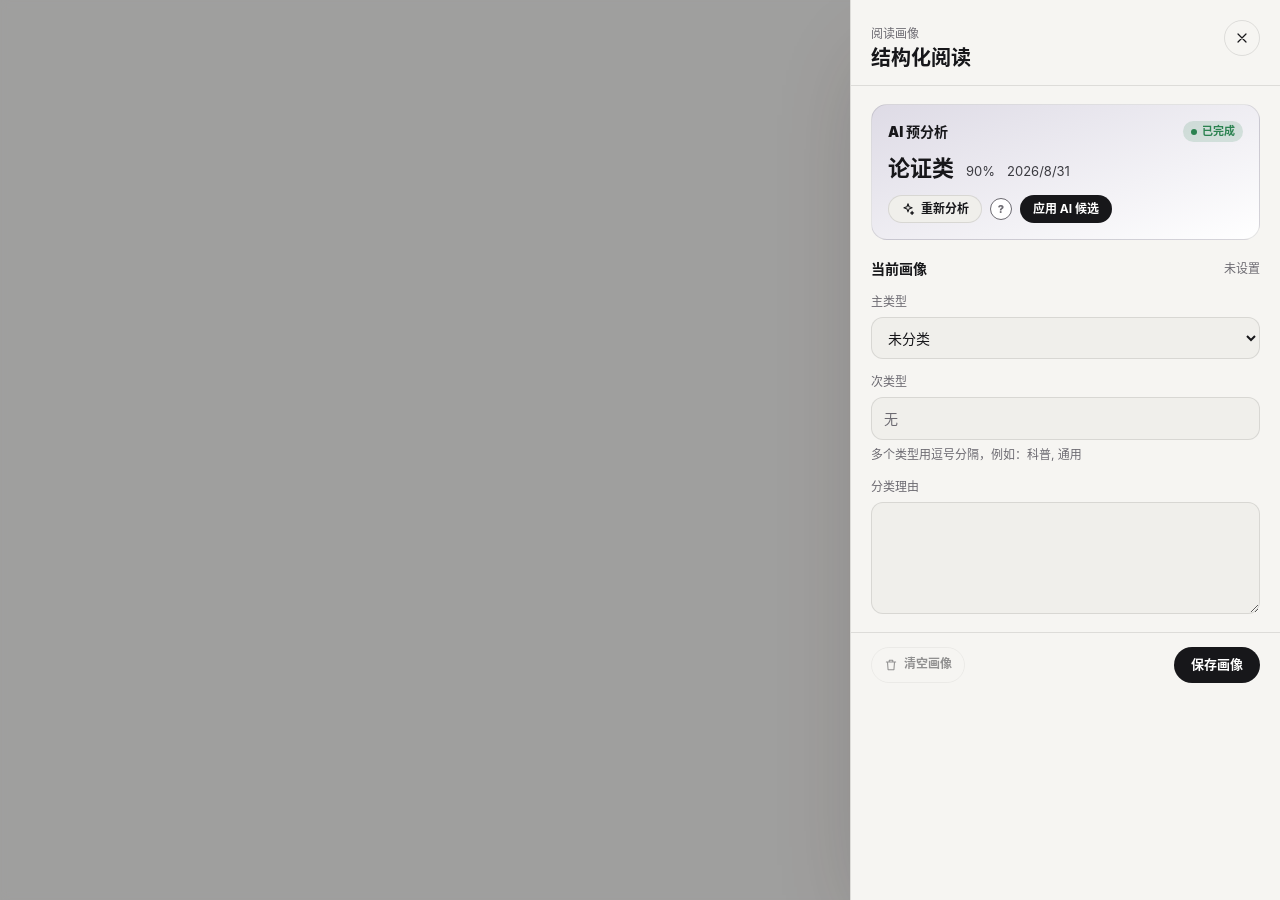
Scenario: 画像抽屉：你自己的操作失败时能看到错误提示 › N12 应用 AI 分析结果失败 → 抽屉里显示错误提示，不当作成功
Click the button "应用 AI 候选". click: click(1066, 209)
box: x1=1020 y1=195 x2=1112 y2=223
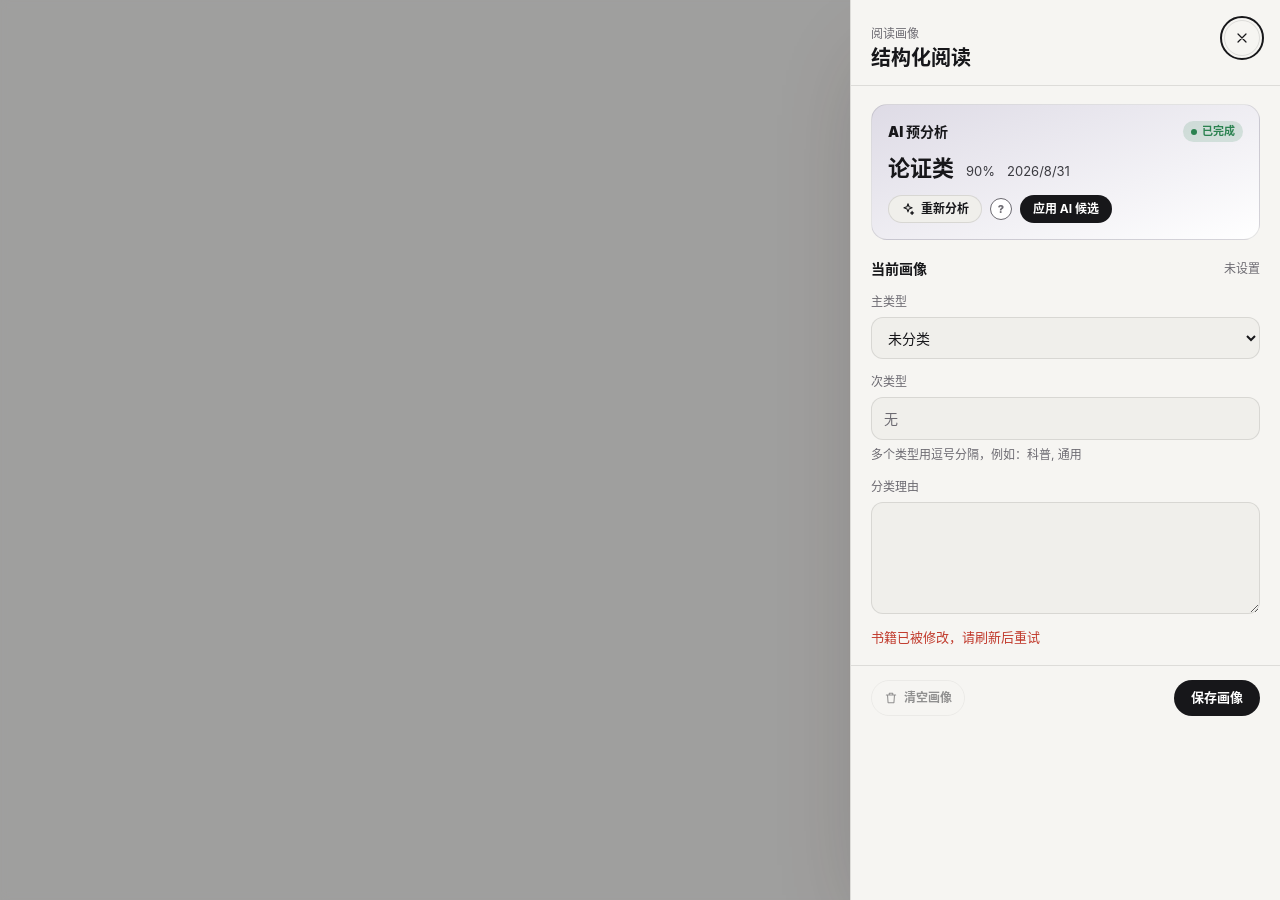
Now the message "书籍已被修改，请刷新后重试" is shown, box x1=871 y1=629 x2=1040 y2=645
